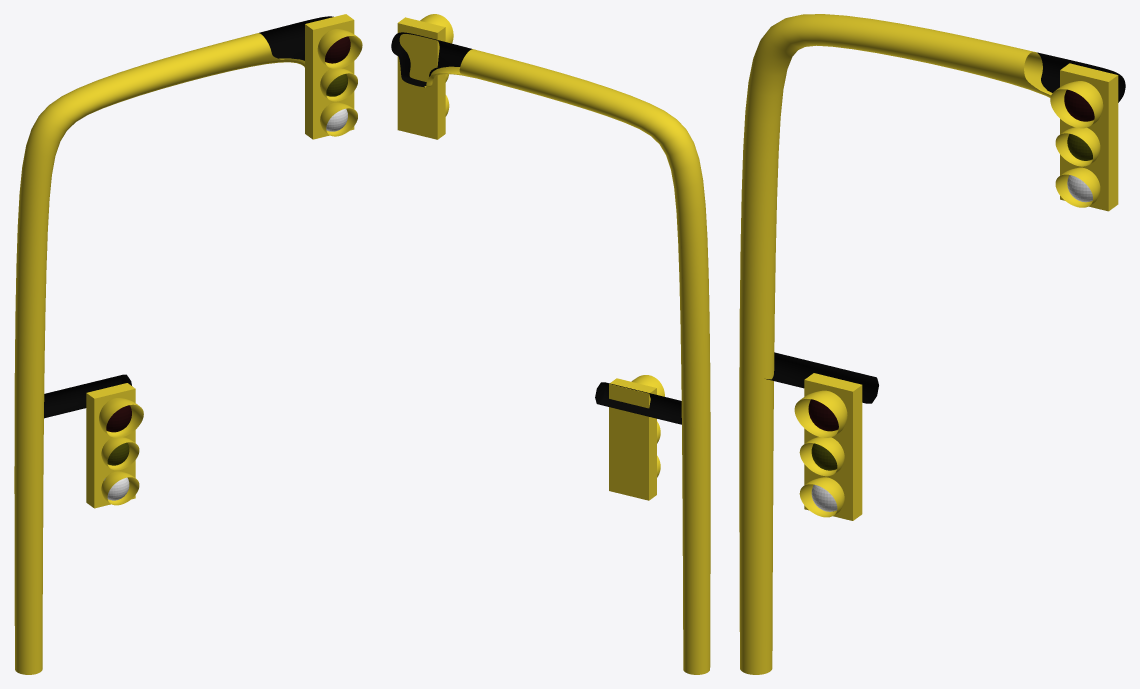
The model's file is Semaforo.fbx.
The picture shows the model from 3 angles, left to right: view 1: azimuth 30°, elevation 25°; view 2: azimuth 150°, elevation 25°; view 3: azimuth 330°, elevation 25°; orthographic projection. The views are drawn at different scales.
Parts seen in each view (by area): view 1: Semaforo; view 2: Semaforo; view 3: Semaforo.
Boxes of the visible parts, x1=… form: Semaforo: x1=14, y1=14, x2=362, y2=674; Semaforo: x1=391, y1=14, x2=710, y2=674; Semaforo: x1=739, y1=14, x2=1125, y2=674.
Bounding box in the file's own units: 452 × 776 × 84.95.
